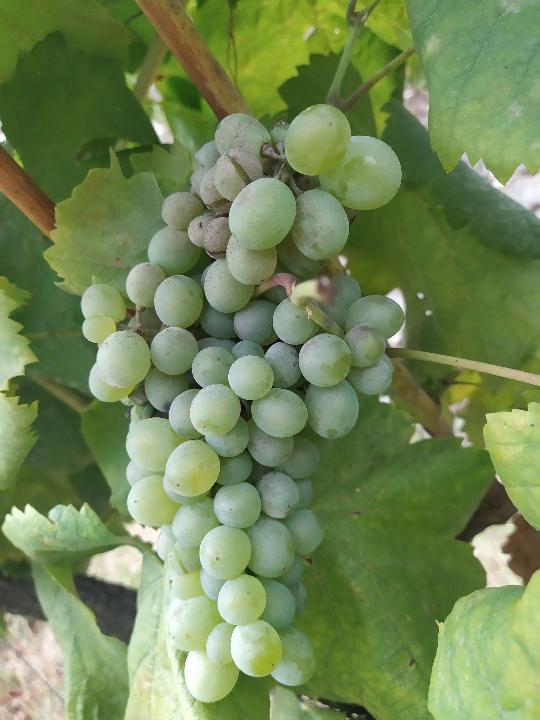grape: (75, 99, 408, 706)
